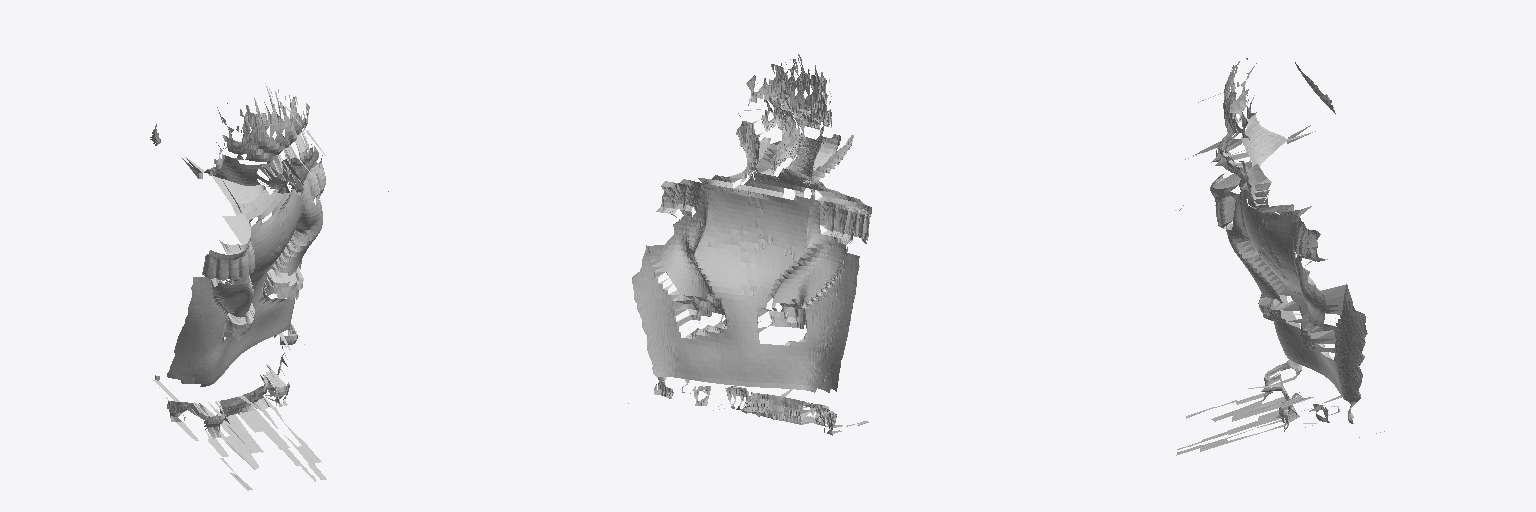
The model's file is frame-S00F18.obj.
The picture shows the model from 3 angles: view 1: azimuth 30°, elevation 25°; view 2: azimuth 150°, elevation 25°; view 3: azimuth 270°, elevation 25°; orthographic projection.
Bounding box in the file's own units: 51.82 × 101 × 51.59.